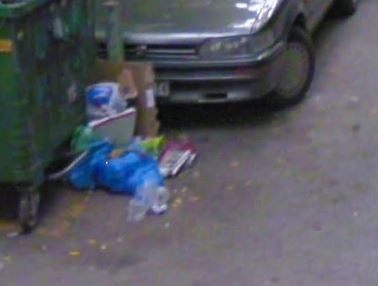trash: (52, 49, 208, 222)
